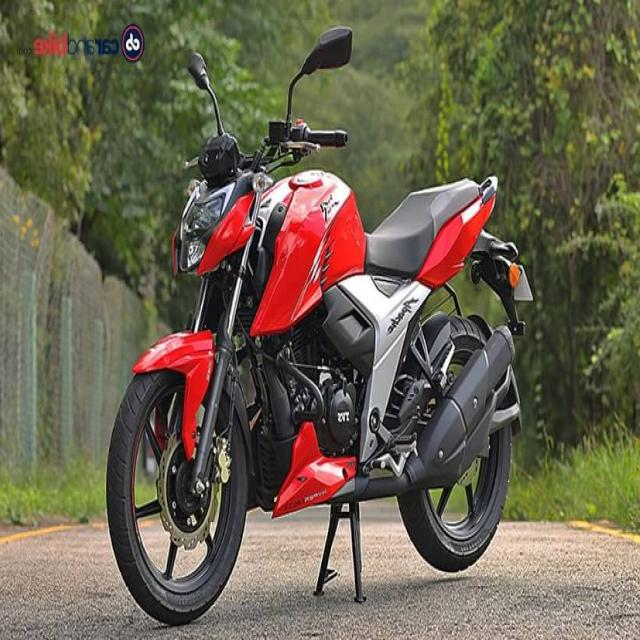motorcycle: (108, 28, 531, 623)
